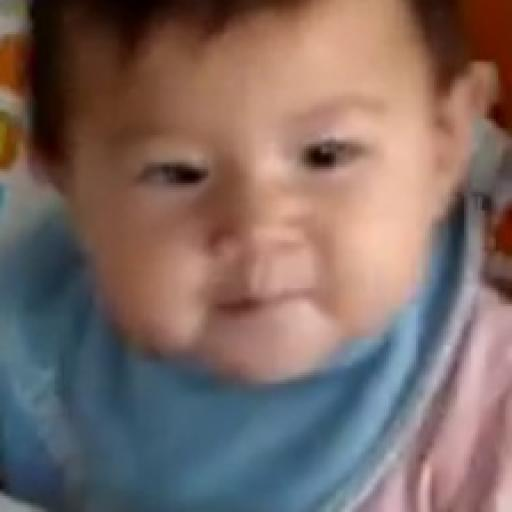Autism: (16, 0, 512, 405)
